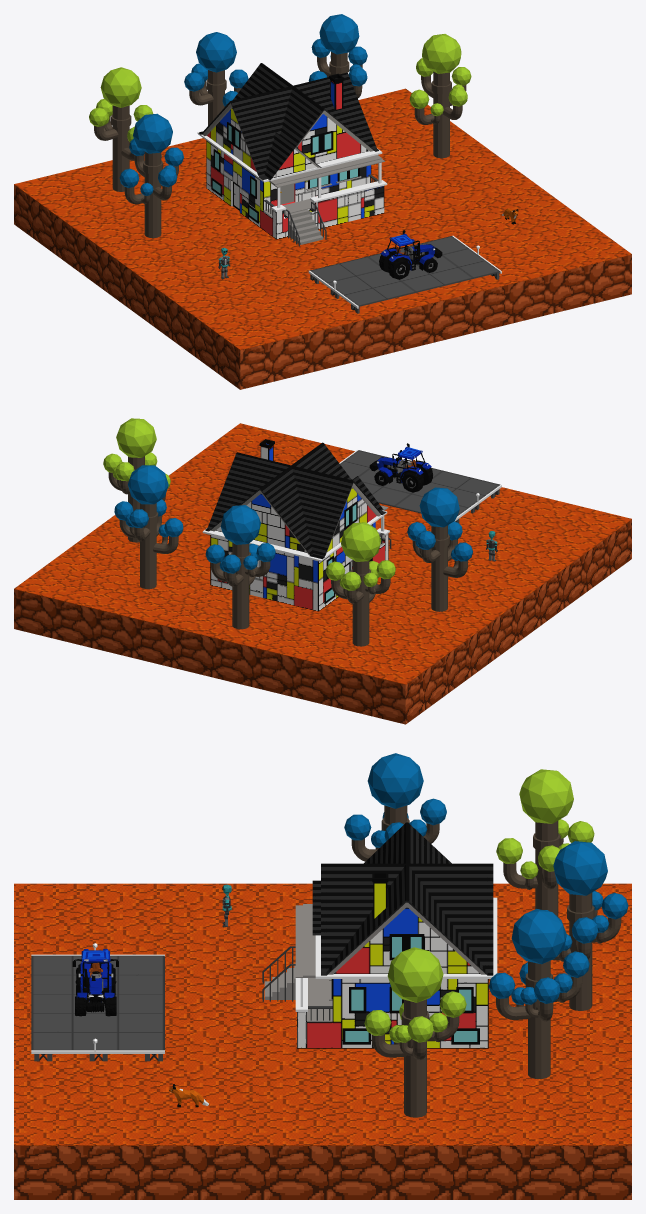
3 views of the same model, one above another, from view 1: azimuth 30°, elevation 25°; view 2: azimuth 150°, elevation 25°; view 3: azimuth 270°, elevation 25° (orthographic). The views are drawn at different scales.
Parts seen in each view (by area): view 1: Cube.001, Cube.840, VEHICLES_TRACTOR; view 2: Cube.001, Cube.840, VEHICLES_TRACTOR; view 3: Cube.001, Cube.840, VEHICLES_TRACTOR.
Part boxes in pixels (x1,y1,x2,y2): Cube.001: (14,14,631,389); Cube.840: (197,63,387,246); VEHICLES_TRACTOR: (379,230,442,279); Cube.001: (14,418,631,724); Cube.840: (202,439,391,611); VEHICLES_TRACTOR: (369,443,432,492); Cube.001: (14,753,631,1199); Cube.840: (262,822,497,1048); VEHICLES_TRACTOR: (72,949,118,1016).
Size of the model in its own units: 4000 by 1667 by 4000.
Materials: 32 (5 with a texture image).
